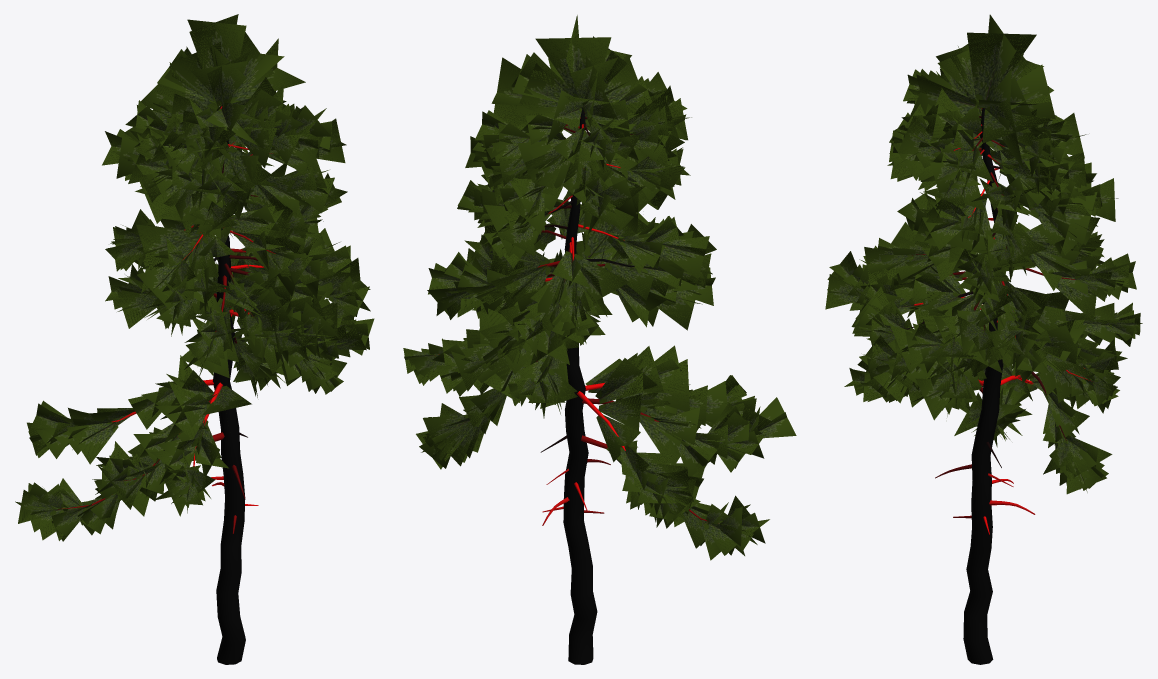
Rendered from pine2 lod0.FBX.
3 views of the same model, side by side, from view 1: azimuth 30°, elevation 25°; view 2: azimuth 150°, elevation 25°; view 3: azimuth 270°, elevation 25° (orthographic).
Parts seen in each view (by area): view 1: pine2; view 2: pine2; view 3: pine2.
Boxes of the visible parts, x1=… form: pine2: x1=15, y1=14, x2=374, y2=664; pine2: x1=403, y1=15, x2=796, y2=664; pine2: x1=825, y1=14, x2=1142, y2=664.
Bounding box in the file's own units: 146719 × 272968 × 124558.
